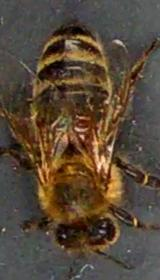varroa_mite: (70, 115, 97, 145)
